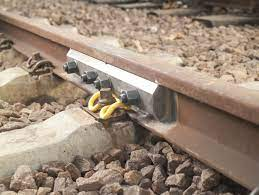insulated joint: (61, 48, 175, 125)
